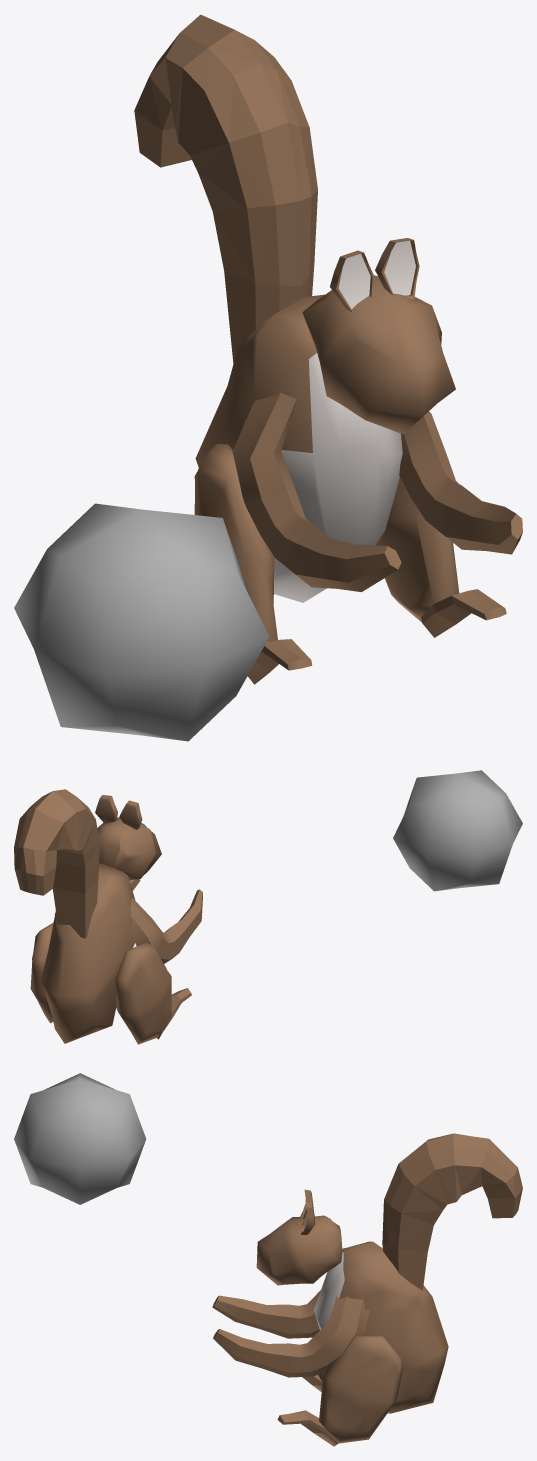
Rendered from squirrel.fbx.
The picture shows the model from 3 angles, top to bottom: view 1: azimuth 30°, elevation 25°; view 2: azimuth 150°, elevation 25°; view 3: azimuth 270°, elevation 25°; orthographic projection. The views are drawn at different scales.
Visible parts, largest first — view 1: pCube2, pCube4, head2, head, pCube5, head4, polySurface2, head3, ear2, ear1; view 2: pCube2, head2, pCube4, head3, head, pCube5, head4, ear2, ear1; view 3: pCube2, pCube4, head2, head4, polySurface2, head, pCube5.
Part boxes in pixels (left/top/right/bottom): pCube2: left=14, top=503, right=269, bottom=741; pCube4: left=134, top=14, right=317, bottom=363; head2: left=195, top=294, right=402, bottom=602; head: left=302, top=275, right=455, bottom=434; pCube5: left=232, top=392, right=401, bottom=592; head4: left=376, top=477, right=506, bottom=637; polySurface2: left=399, top=411, right=522, bottom=554; head3: left=194, top=444, right=312, bottom=684; ear2: left=375, top=238, right=419, bottom=299; ear1: left=330, top=250, right=374, bottom=312; pCube2: left=393, top=770, right=522, bottom=891; head2: left=40, top=863, right=135, bottom=1043; pCube4: left=14, top=789, right=99, bottom=938; head3: left=115, top=942, right=191, bottom=1044; head: left=97, top=817, right=161, bottom=880; pCube5: left=129, top=889, right=202, bottom=963; head4: left=30, top=922, right=53, bottom=1023; ear2: left=95, top=795, right=117, bottom=823; ear1: left=119, top=800, right=142, bottom=829; pCube2: left=14, top=1073, right=146, bottom=1204; pCube4: left=382, top=1133, right=522, bottom=1290; head2: left=314, top=1241, right=448, bottom=1413; head4: left=277, top=1336, right=402, bottom=1446; polySurface2: left=213, top=1295, right=369, bottom=1377; head: left=256, top=1215, right=342, bottom=1285; pCube5: left=212, top=1290, right=320, bottom=1338.
Size of the model in its own units: 9.28 by 7.28 by 11.54.
